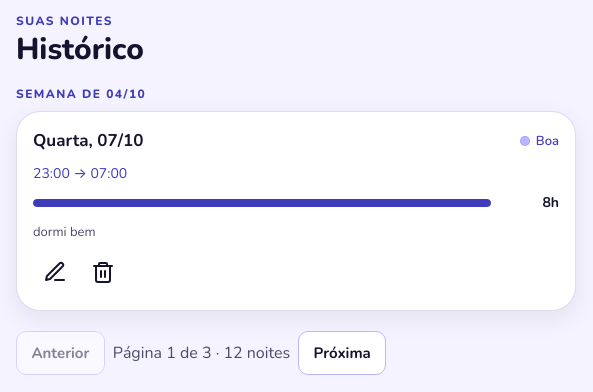
tela de Histórico › avança e volta de página
Expected: the text "8h" is shown, 542,193 -> 559,212
Expected: the text "Boa" is shown, 520,131 -> 559,151
Click the button "Próxima" at (342, 353), box 298,331 -> 386,375
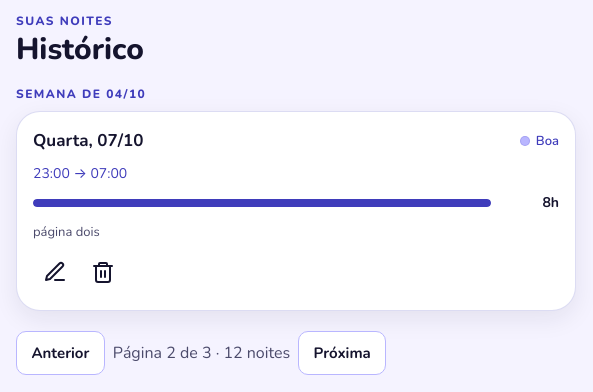
Now the text "página dois" is shown, box 33,223 -> 100,241
Now the text "Página 2 de 3 · 12 noites" is shown, box 113,341 -> 290,365
Click the button "Anterior" at (60, 353), box 16,331 -> 105,375
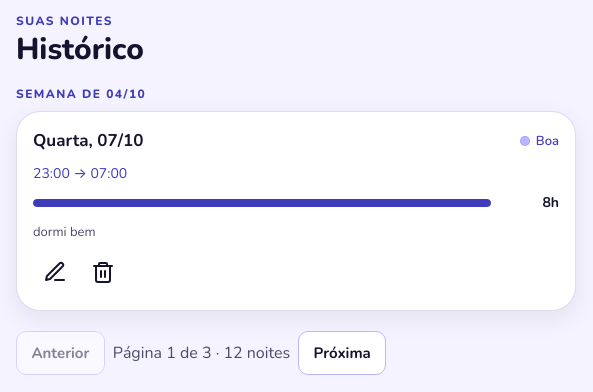
Now the text "dormi bem" is shown, box 33,223 -> 96,241
Now the text "Página 1 de 3 · 12 noites" is shown, box 113,341 -> 290,365
